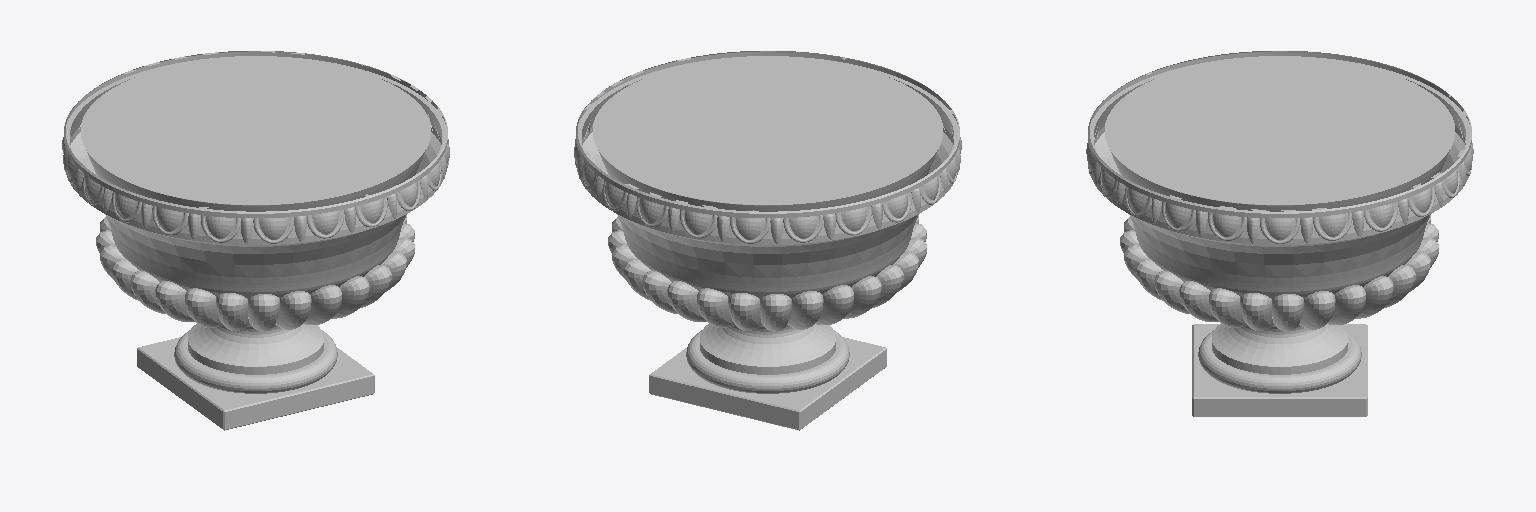
Rendered from table_decor.obj.
3 views of the same model, side by side, from view 1: azimuth 30°, elevation 25°; view 2: azimuth 150°, elevation 25°; view 3: azimuth 270°, elevation 25° (orthographic).
Parts seen in each view (by area): view 1: Group_001, astamal_va_001; view 2: Group_001, astamal_va_001; view 3: Group_001, astamal_va_001.
Boxes of the visible parts, <box> form: Group_001: <box>64,51,447,393</box>; astamal_va_001: <box>62,71,449,430</box>; Group_001: <box>576,51,959,393</box>; astamal_va_001: <box>574,81,961,430</box>; Group_001: <box>1088,51,1471,393</box>; astamal_va_001: <box>1086,76,1473,416</box>.
Size of the model in its own units: 59.91 by 42.5 by 59.72.